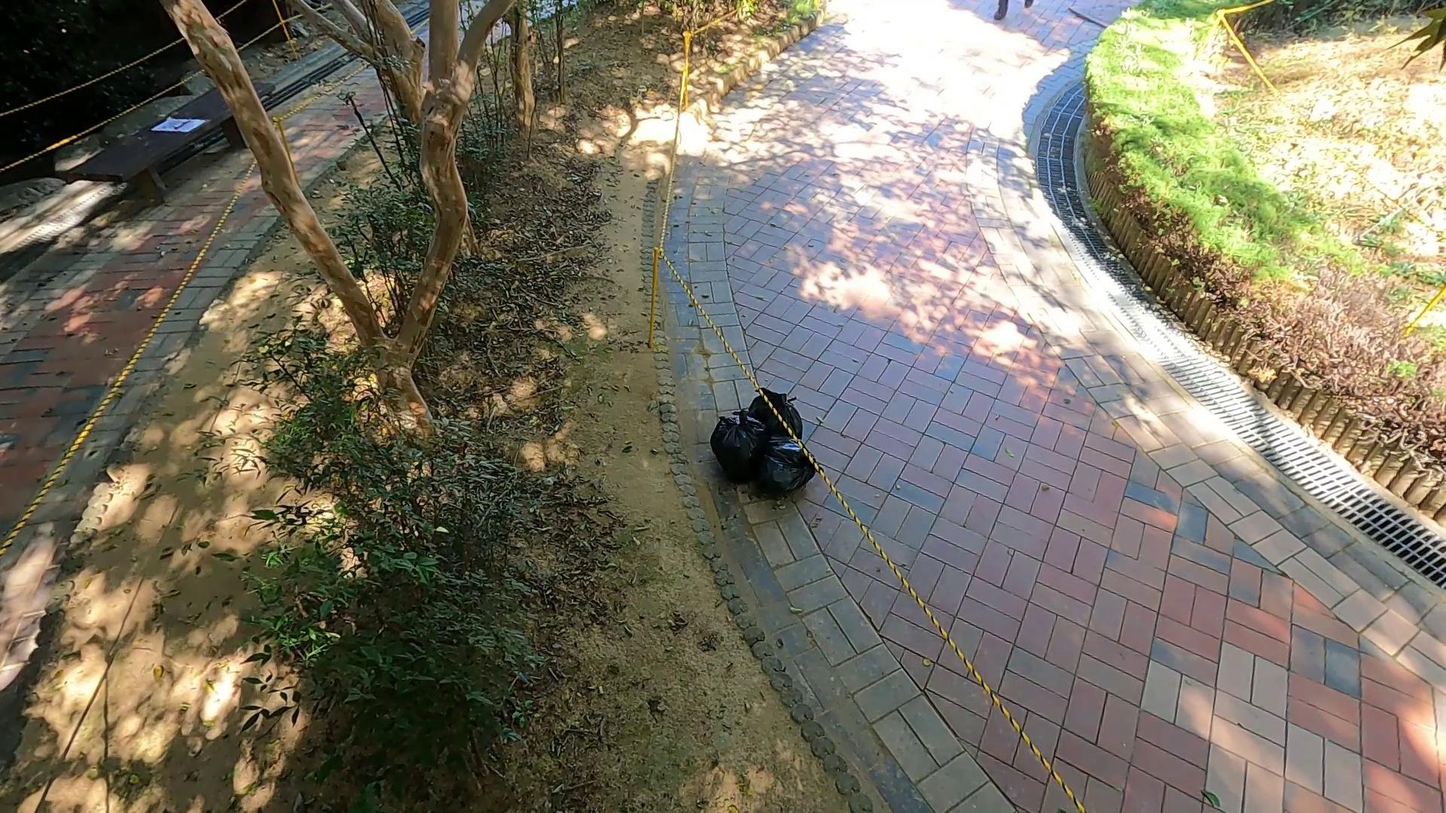trash: (708, 406, 775, 480), (751, 433, 815, 502), (745, 389, 802, 451)
